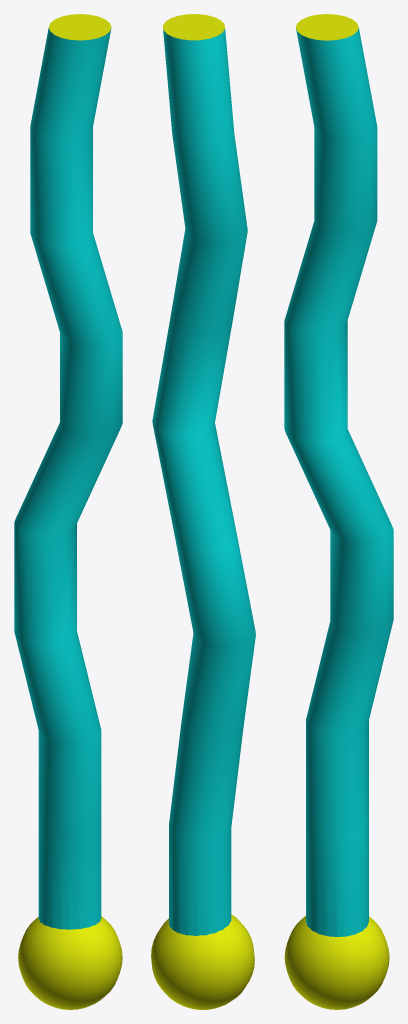
File: lightvine.fbx
3 renders of one model, left to right at view 1: azimuth 90°, elevation 25°; view 2: azimuth 210°, elevation 25°; view 3: azimuth 270°, elevation 25°, orthographic.
Parts seen in each view (by area): view 1: pSphere2; view 2: pSphere2; view 3: pSphere2.
Part boxes in pixels (x1,y1,x2,y2): pSphere2: (14, 14, 122, 1009); pSphere2: (151, 14, 255, 1009); pSphere2: (284, 14, 393, 1009).
Bounding box in the file's own units: 0.846 × 8.71 × 0.8789.
